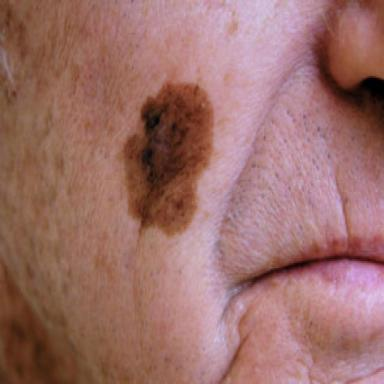Melanoma: (117, 82, 214, 238)
